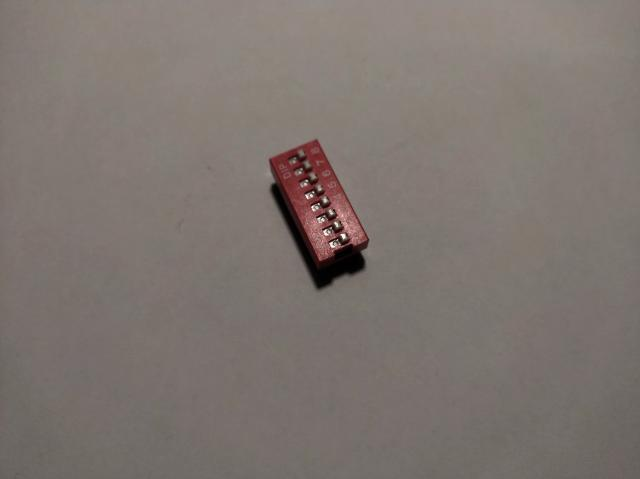dip_switch: (270, 140, 370, 270)
